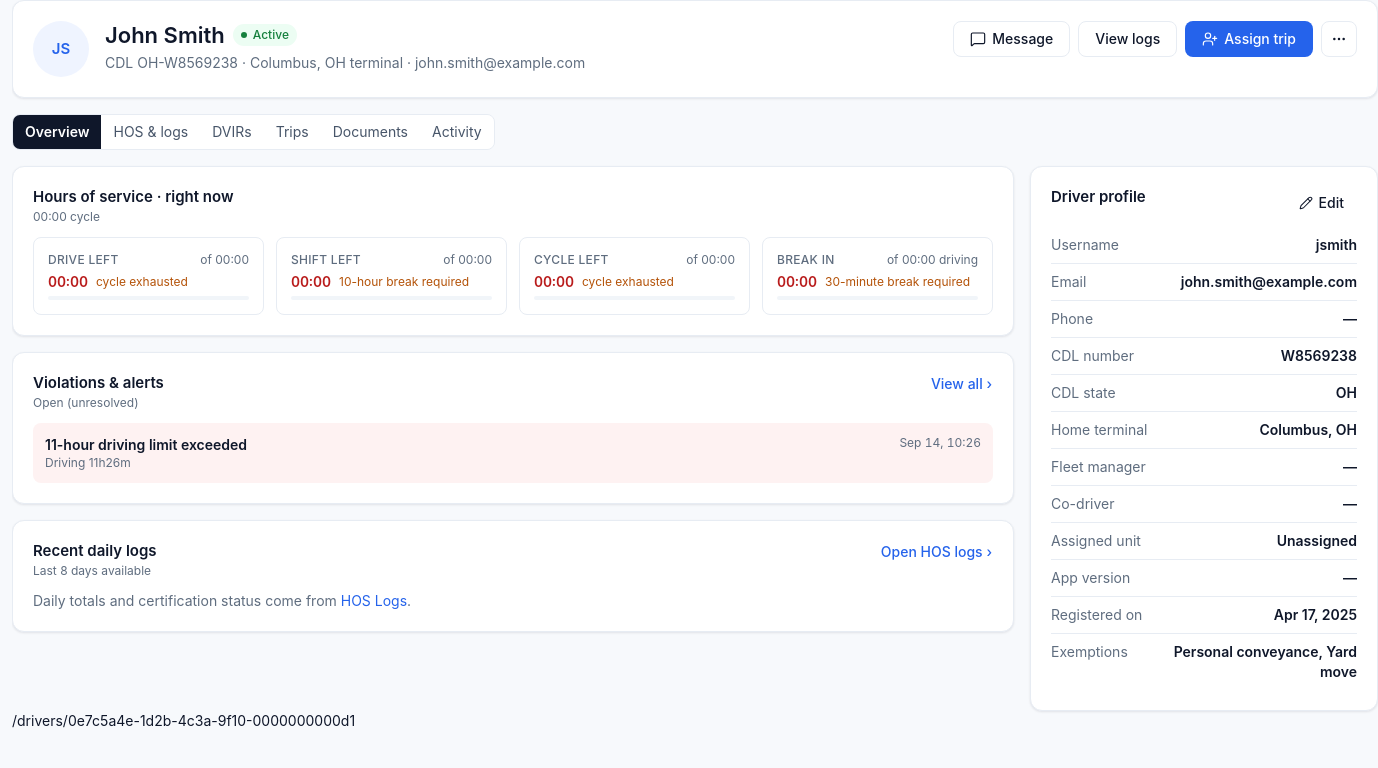
Test: W-07 Driver profile — four states › LIVE-024 — the Activity tab says plainly when nothing is on file
Expected: the heading "John Smith" is shown, left=105, top=21, right=225, bottom=49
Step 1. Click the button "Activity" → (457, 132), box left=420, top=115, right=494, bottom=149
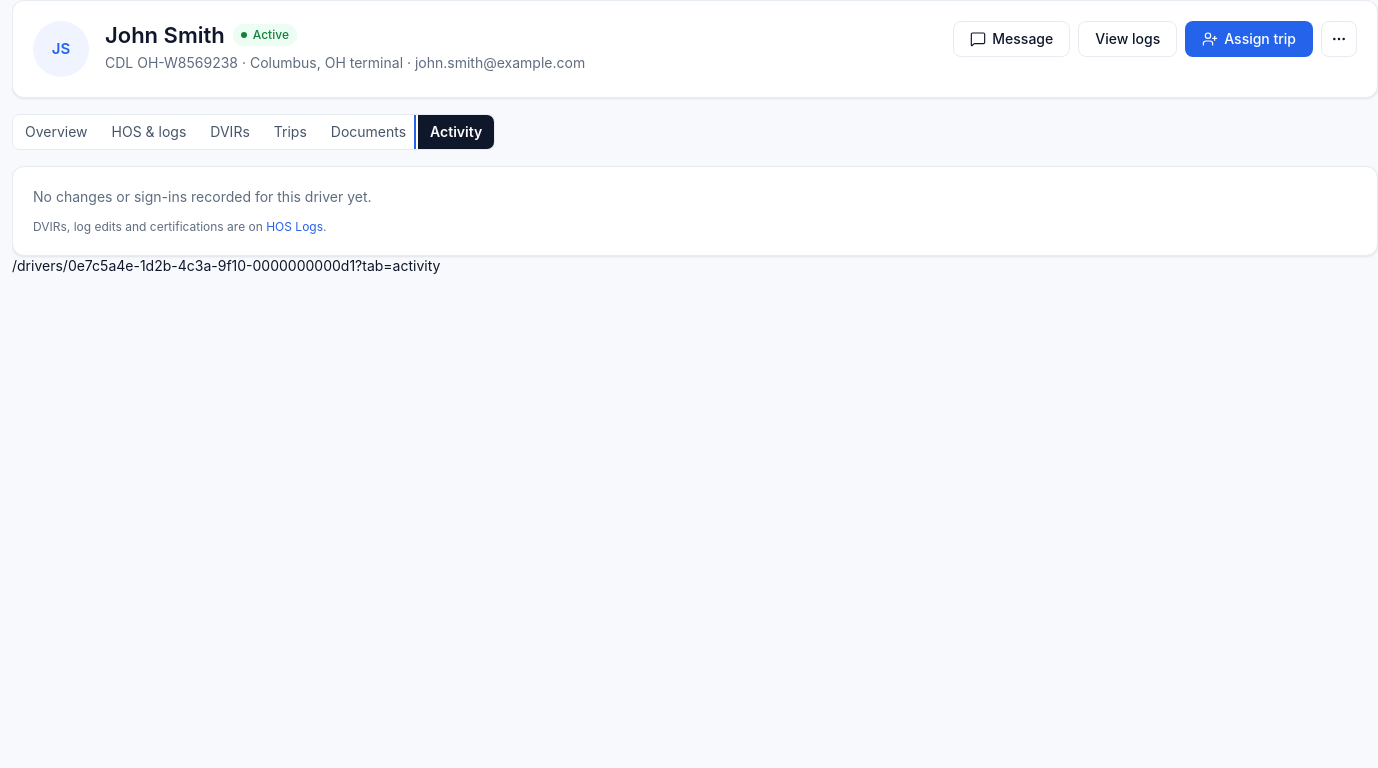
Expected: the text "No changes or sign-ins recorded for this driver yet." is shown, left=33, top=188, right=372, bottom=205
